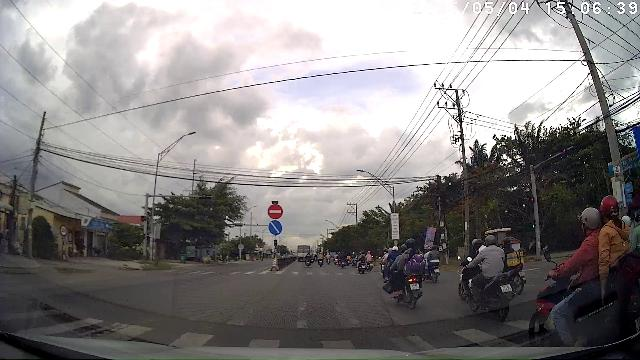102-cam-di-nguoc-chieu: (268, 204, 282, 219)
302a-huong-phai-di-vong-chuong-ngai-vat-1: (268, 220, 282, 236)
